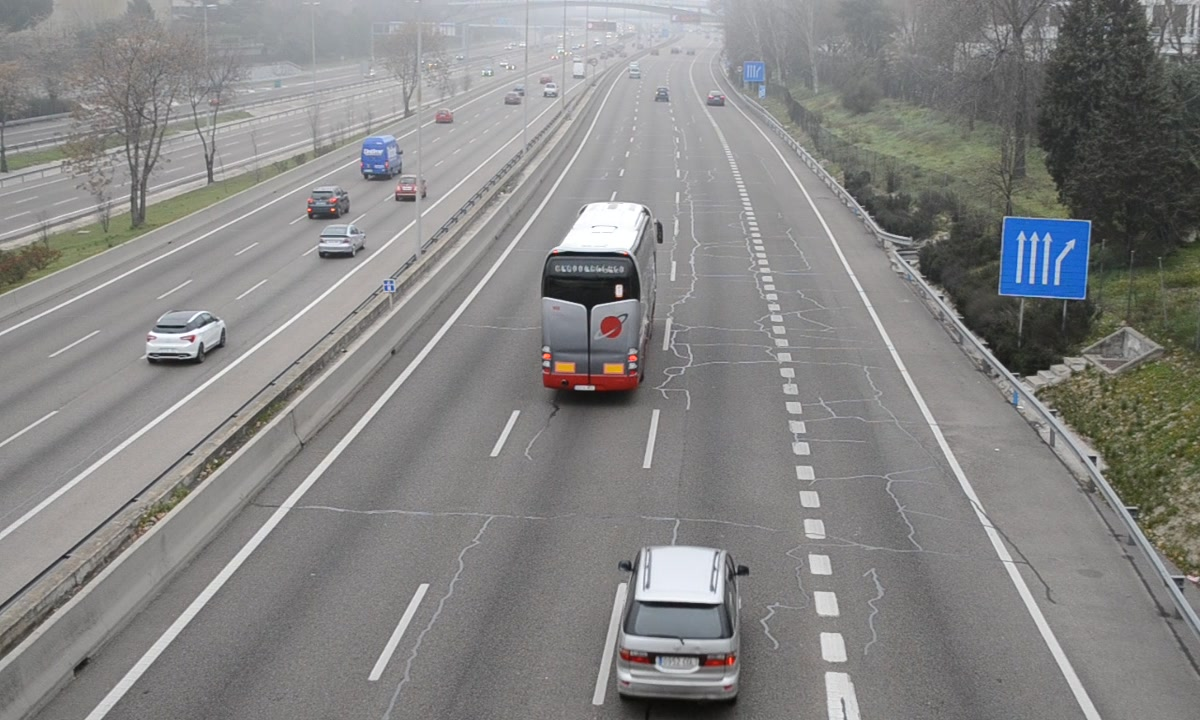bus: (540, 200, 656, 395)
car: (612, 548, 749, 701), (705, 88, 726, 107)
